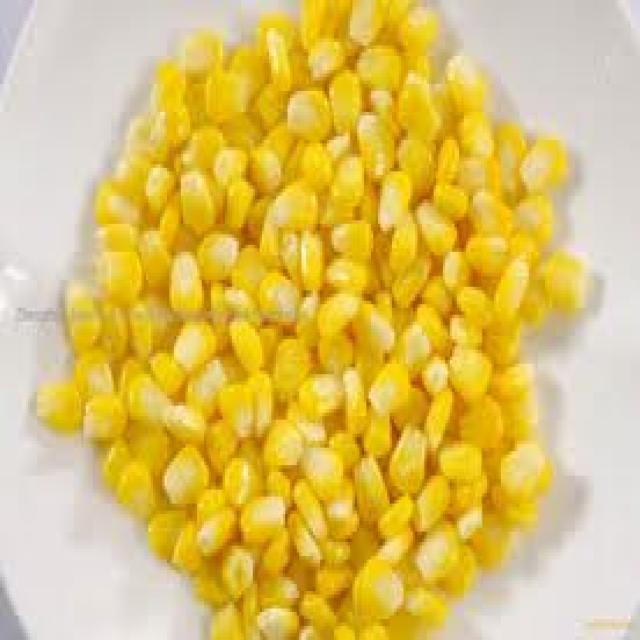corn: (49, 25, 540, 605)
